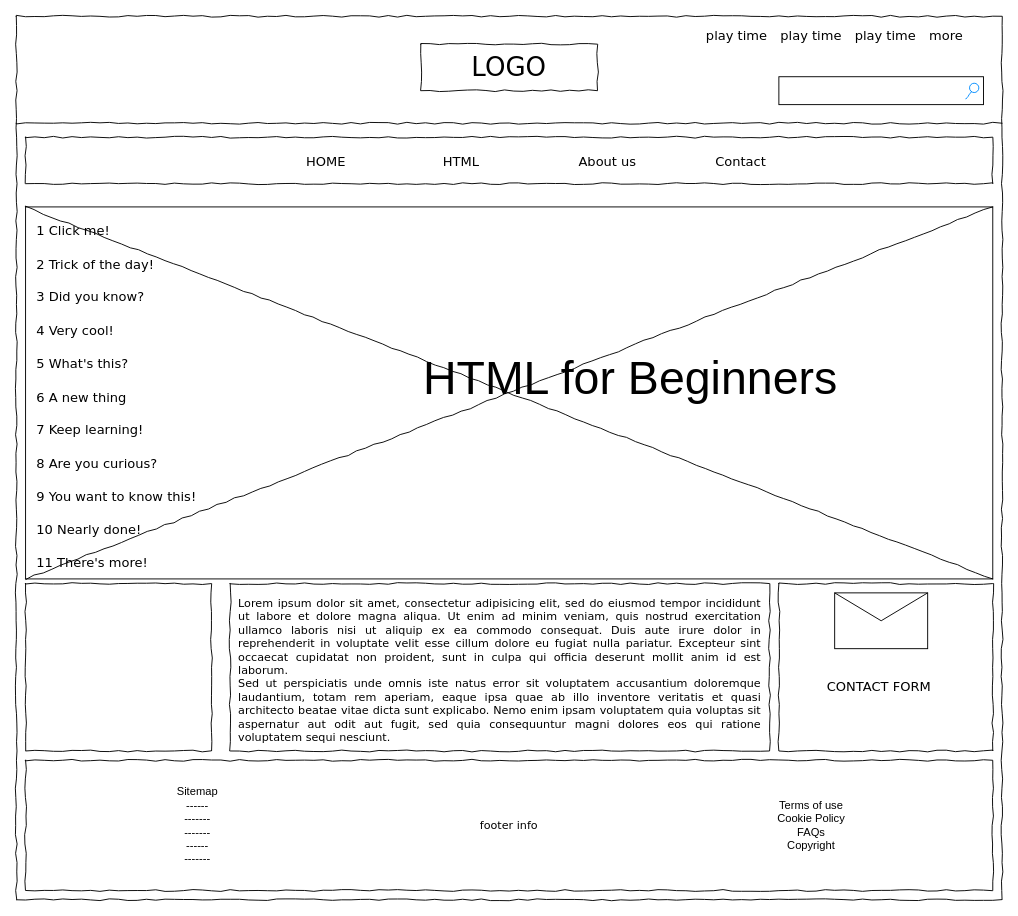
Image size: 1018x916. Some labels were removed from this diagram. The centre of each missing label's shape, as x and y in pixels:
"search" belongs at (880,90).
"Tags Here" belongs at (118,667).
